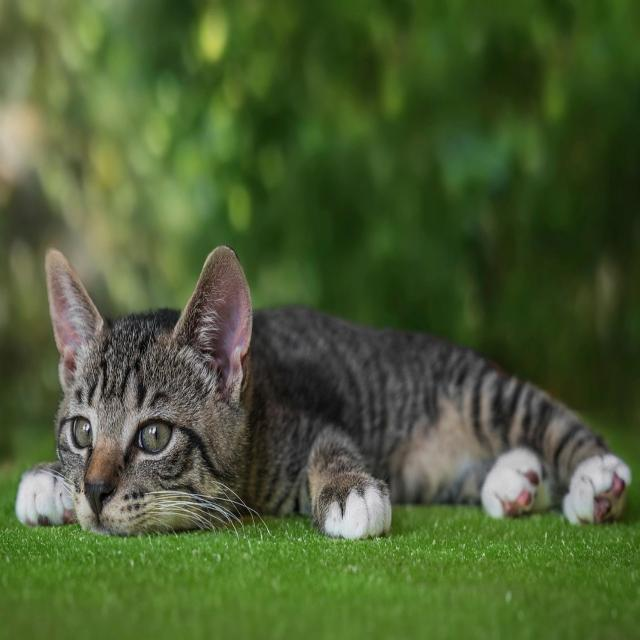cat: (13, 245, 633, 528)
